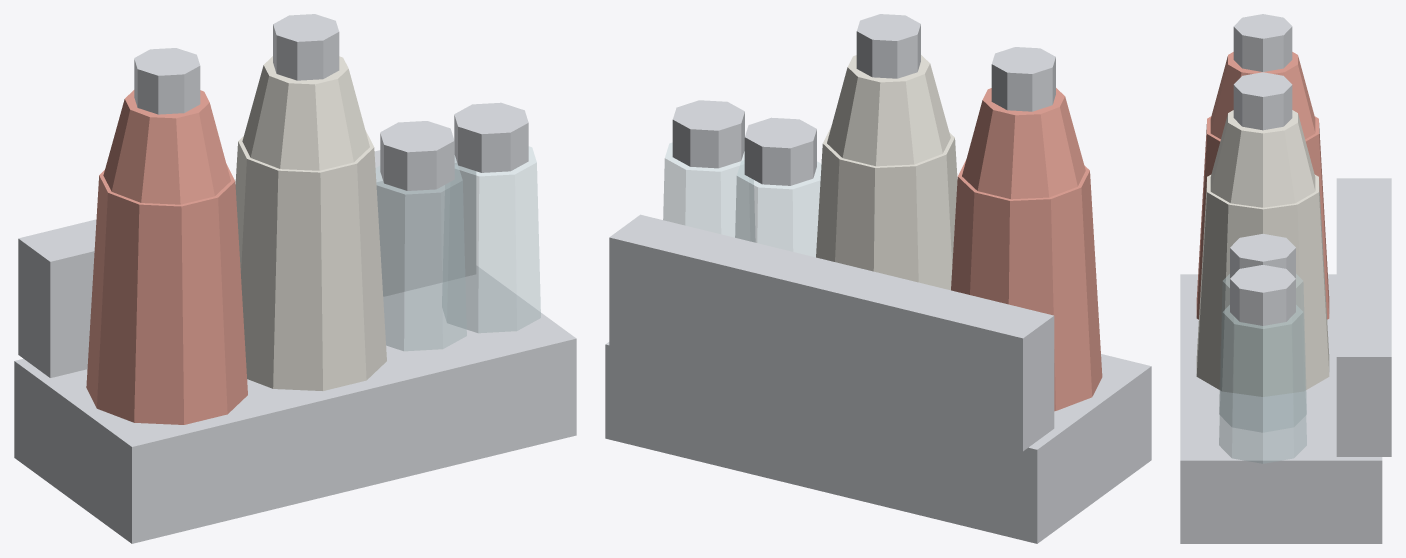
The model's file is retro-diner-and-roadside-motel-condiment-set-1ac32d8d__37331.glb.
The picture shows the model from 3 angles, left to right: view 1: azimuth 30°, elevation 25°; view 2: azimuth 150°, elevation 25°; view 3: azimuth 270°, elevation 25°; orthographic projection. The views are drawn at different scales.
Visible parts, largest first — view 1: condiment-set-chrome, condiment-set-coral, condiment-set-cream, condiment-set-glass; view 2: condiment-set-chrome, condiment-set-coral, condiment-set-cream, condiment-set-glass; view 3: condiment-set-chrome, condiment-set-cream, condiment-set-glass, condiment-set-coral.
Part boxes in pixels (x1,y1,x2,y2): condiment-set-chrome: [14, 14, 576, 543]; condiment-set-coral: [86, 90, 247, 424]; condiment-set-cream: [235, 56, 386, 390]; condiment-set-glass: [376, 146, 540, 350]; condiment-set-chrome: [605, 14, 1151, 543]; condiment-set-coral: [951, 88, 1102, 411]; condiment-set-cream: [816, 55, 957, 290]; condiment-set-glass: [663, 143, 821, 256]; condiment-set-chrome: [1180, 14, 1391, 543]; condiment-set-cream: [1196, 110, 1329, 396]; condiment-set-glass: [1219, 274, 1306, 463]; condiment-set-coral: [1196, 52, 1329, 319].
Bounding box in the file's own units: 0.244 × 0.22 × 0.115.
